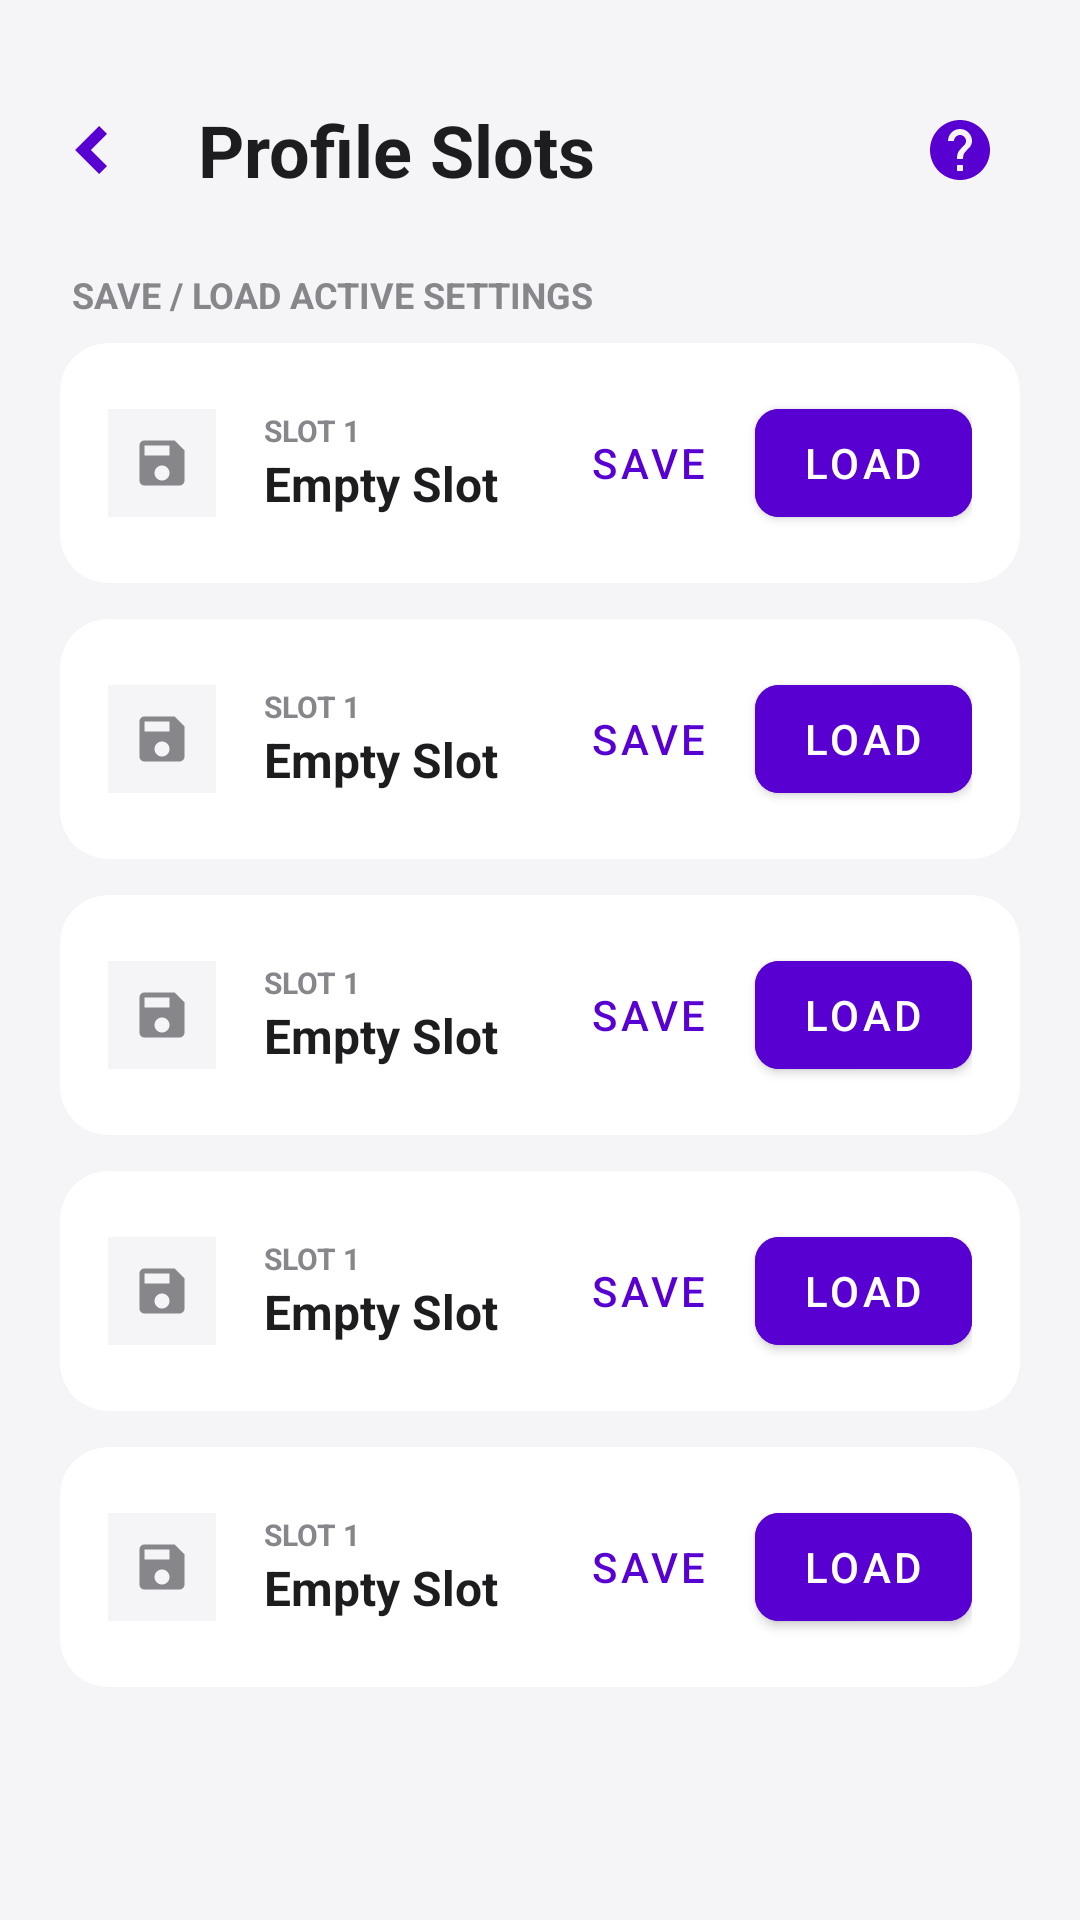

Screen size 1080×1920. Icon name, then its box in pixels as (x1, y1, x2, y2):
back arrow: (75, 126, 107, 174)
help: (930, 120, 990, 180)
